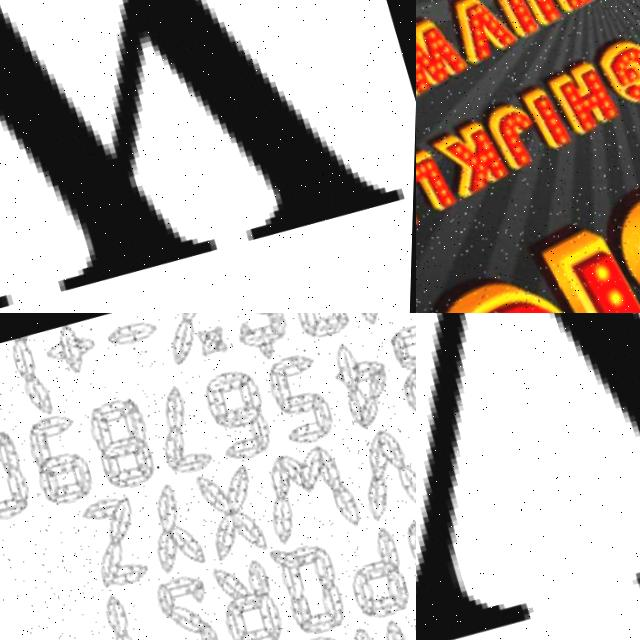0: (0, 421, 40, 529)
3: (385, 313, 416, 418)
4: (319, 322, 409, 436)
5: (259, 343, 340, 449)
6: (199, 362, 281, 468)
7: (148, 377, 218, 480)
8: (83, 389, 166, 496)
9: (21, 408, 98, 512)
V: (416, 313, 640, 640)
W: (0, 0, 416, 313)
